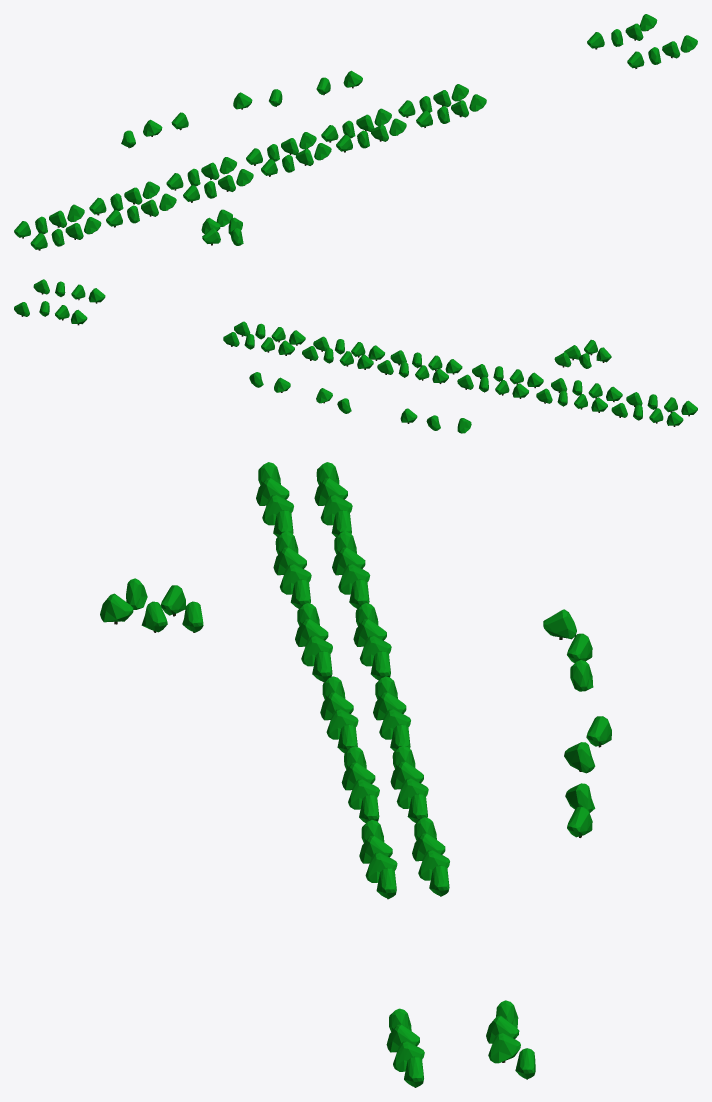
Rendered from Trees.fbx.
The picture shows the model from 3 angles, top to bottom: view 1: azimuth 30°, elevation 25°; view 2: azimuth 150°, elevation 25°; view 3: azimuth 270°, elevation 25°; orthographic projection. The views are drawn at different scales.
Parts seen in each view (by area): view 1: Trees; view 2: Trees; view 3: Trees.
Part boxes in pixels (left/top/right/bottom): Trees: left=14, top=14, right=697, bottom=250; Trees: left=14, top=279, right=697, bottom=433; Trees: left=100, top=462, right=611, bottom=1087.
Size of the model in its own units: 7409 by 172 by 2626.
